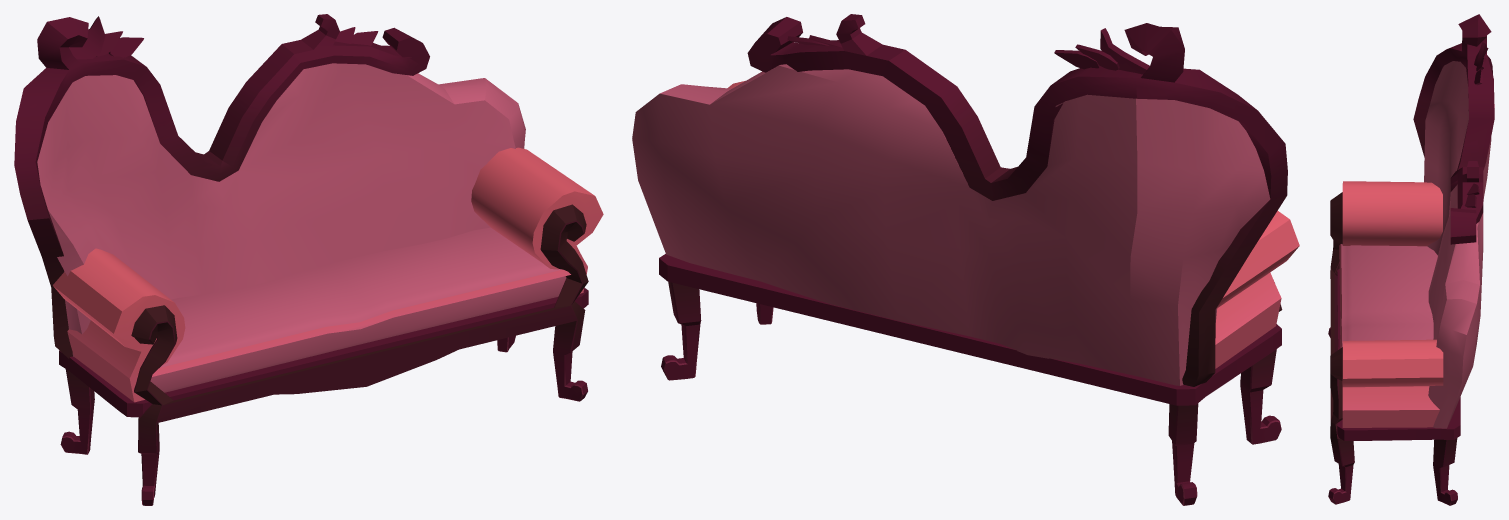
The model's file is sofa.fbx.
3 views of the same model, side by side, from view 1: azimuth 30°, elevation 25°; view 2: azimuth 150°, elevation 25°; view 3: azimuth 270°, elevation 25° (orthographic). The views are drawn at different scales.
Parts seen in each view (by area): view 1: sofaback, sofabase; view 2: sofaback, sofabase; view 3: sofabase, sofaback.
Part boxes in pixels (left/top/right/bottom): sofaback: left=14, top=14, right=525, bottom=358; sofabase: left=53, top=147, right=603, bottom=505; sofaback: left=632, top=14, right=1287, bottom=386; sofabase: left=659, top=80, right=1299, bottom=505; sofabase: left=1328, top=181, right=1460, bottom=505; sofaback: left=1413, top=14, right=1494, bottom=428.
Bounding box in the file's own units: 1.79 × 1.34 × 0.6243.
Materials: 1 (1 with a texture image).
